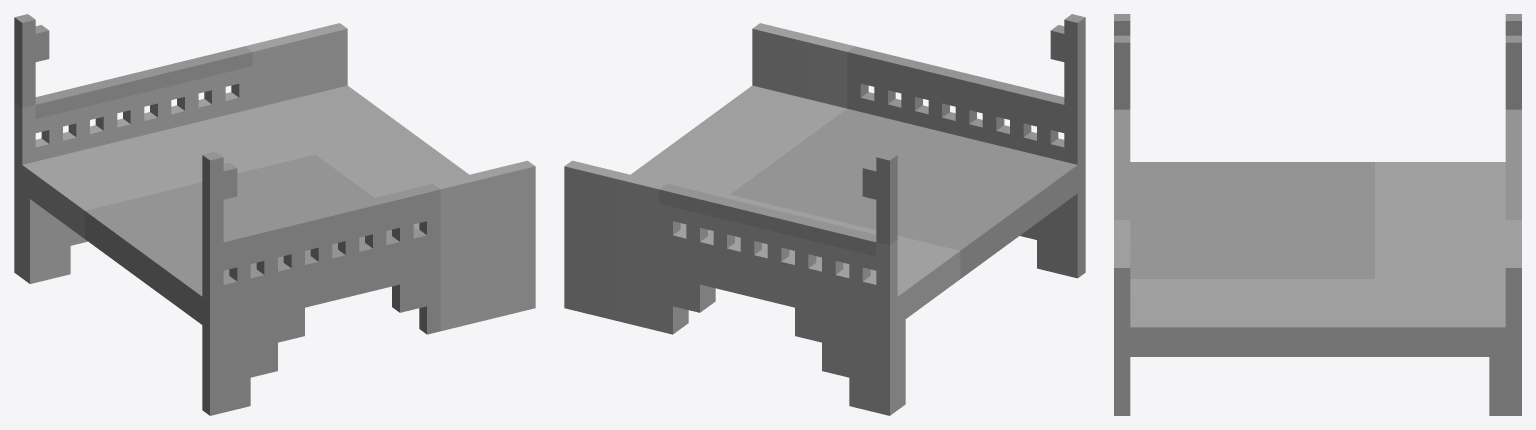
File: church6-21.obj
3 renders of one model, left to right at view 1: azimuth 30°, elevation 25°; view 2: azimuth 150°, elevation 25°; view 3: azimuth 270°, elevation 25°, orthographic. The views are drawn at different scales.
Parts seen in each view (by area): view 1: church6-21; view 2: church6-21; view 3: church6-21.
Boxes of the visible parts, box(x1,y1,x2,y2) form: church6-21: box(14, 14, 535, 415); church6-21: box(564, 14, 1085, 415); church6-21: box(1114, 14, 1521, 415).
Size of the model in its own units: 24 by 18 by 25.
1 material, 1 textured.
